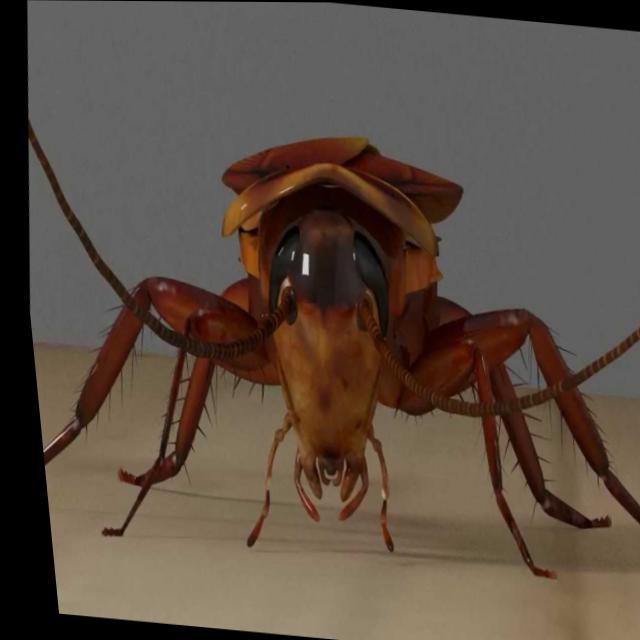Cockroach: (6, 85, 640, 617)
